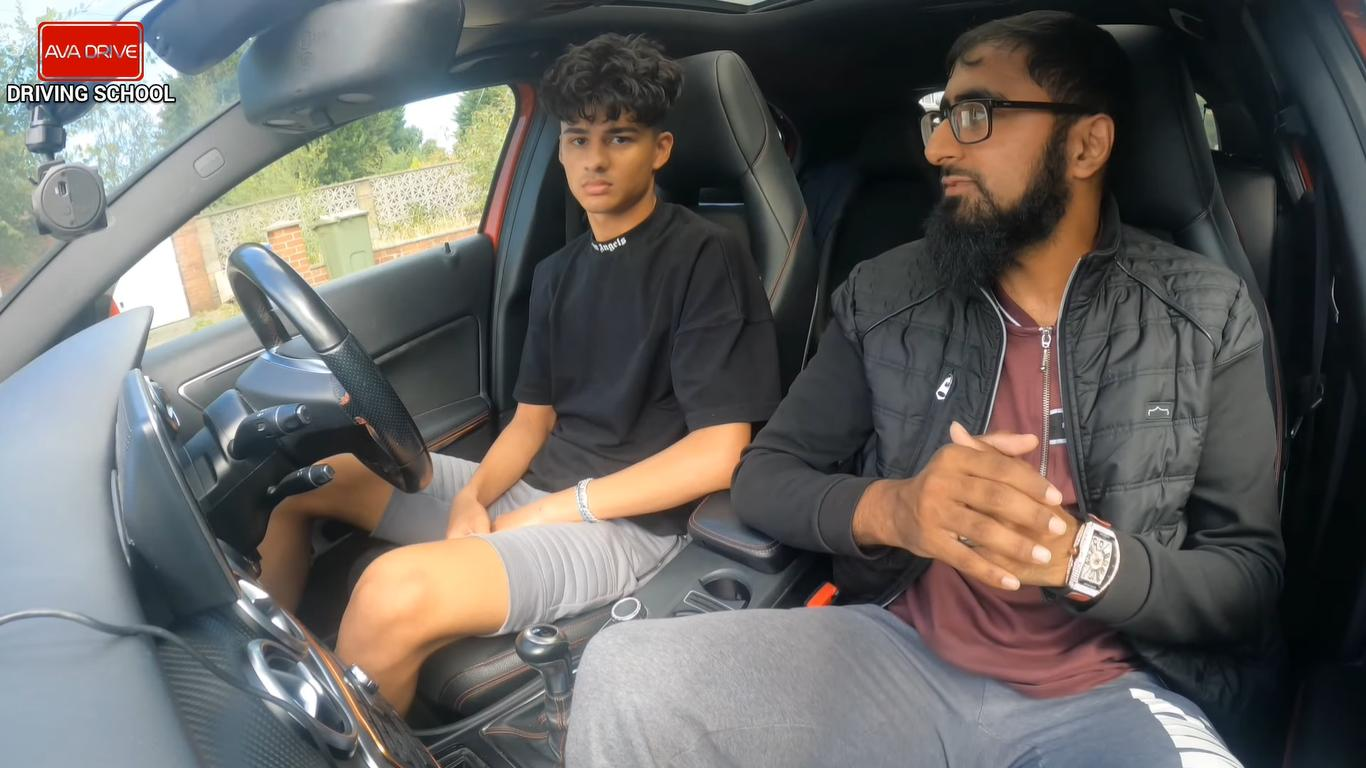no-seatbelt: (887, 295, 1169, 654), (559, 249, 720, 495)
